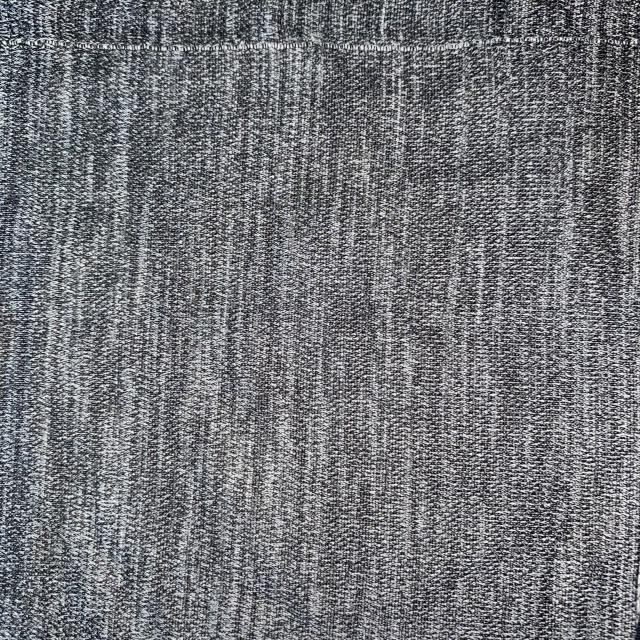Line: (1, 34, 637, 53)
